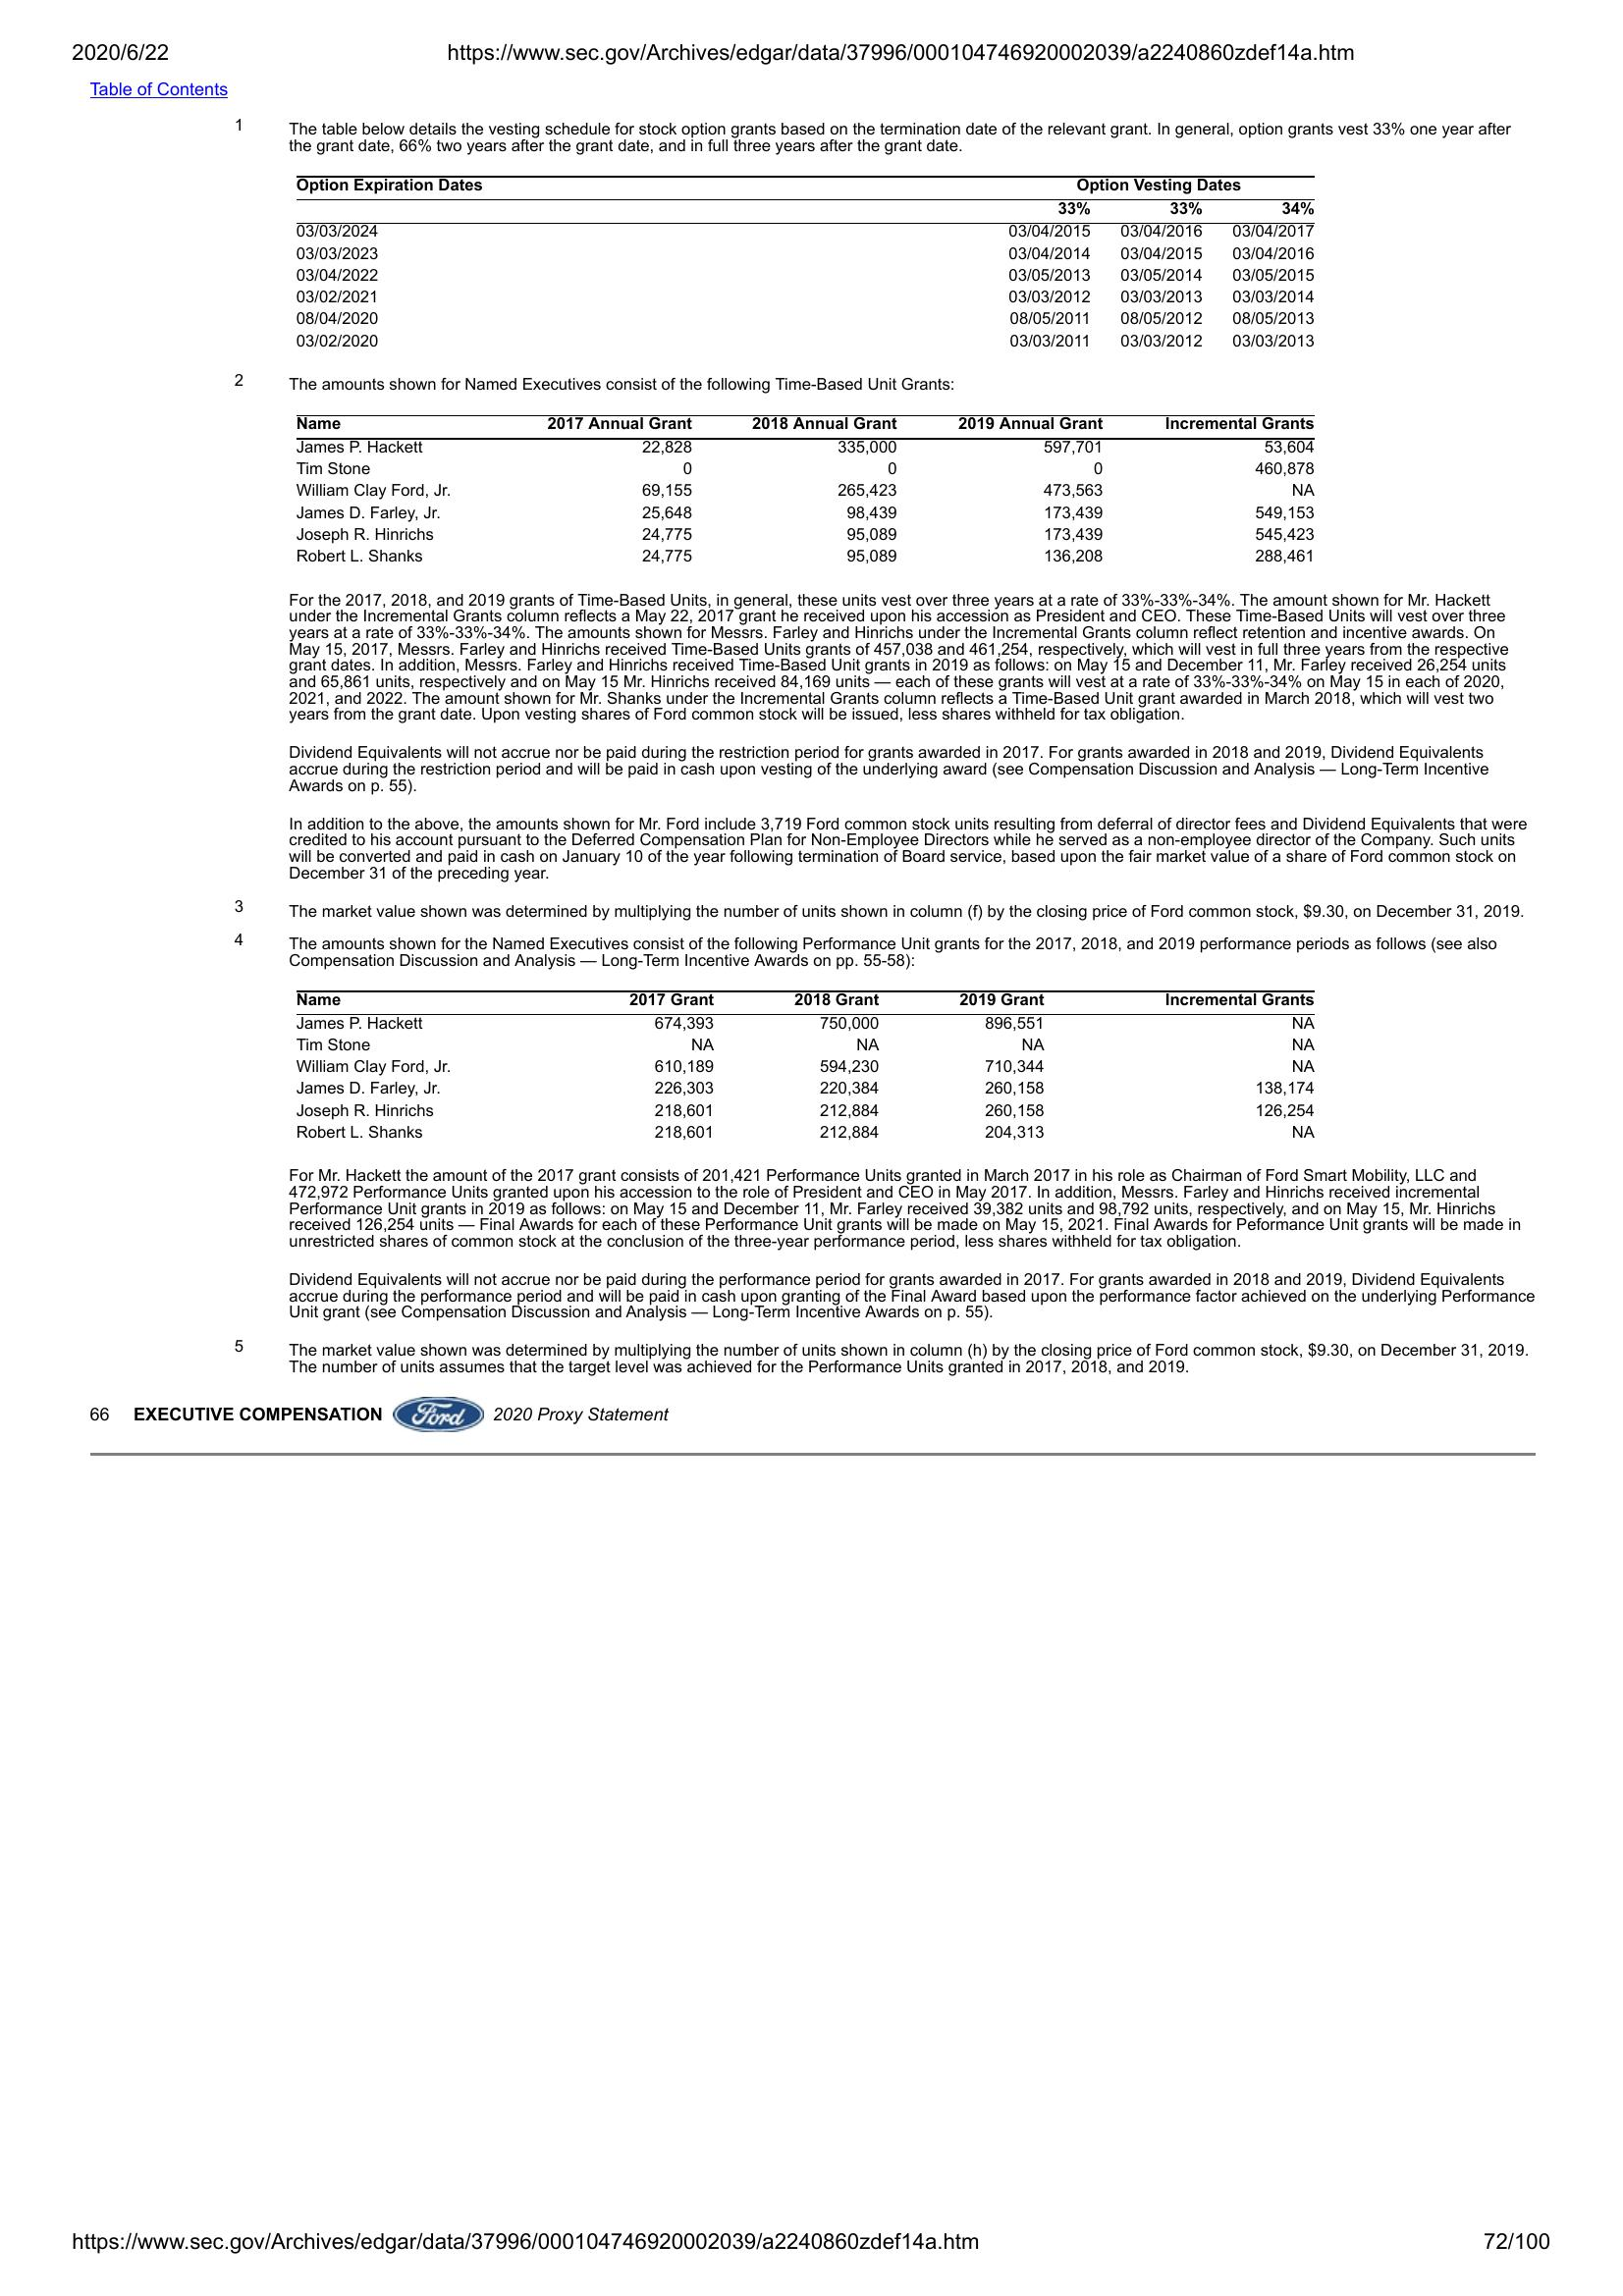table: (290, 169, 1324, 353), (288, 983, 1324, 1148), (288, 413, 1317, 563)
